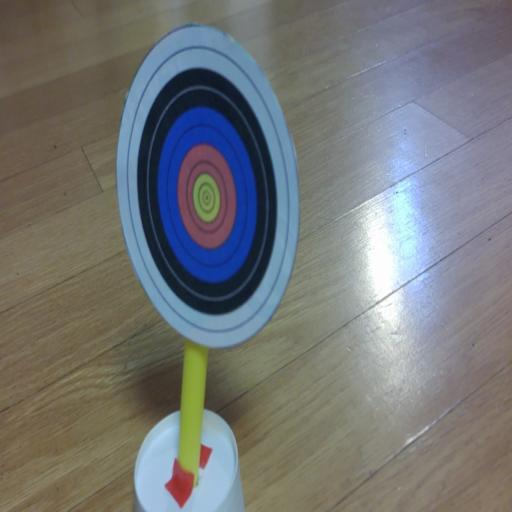target: (117, 24, 299, 347)
